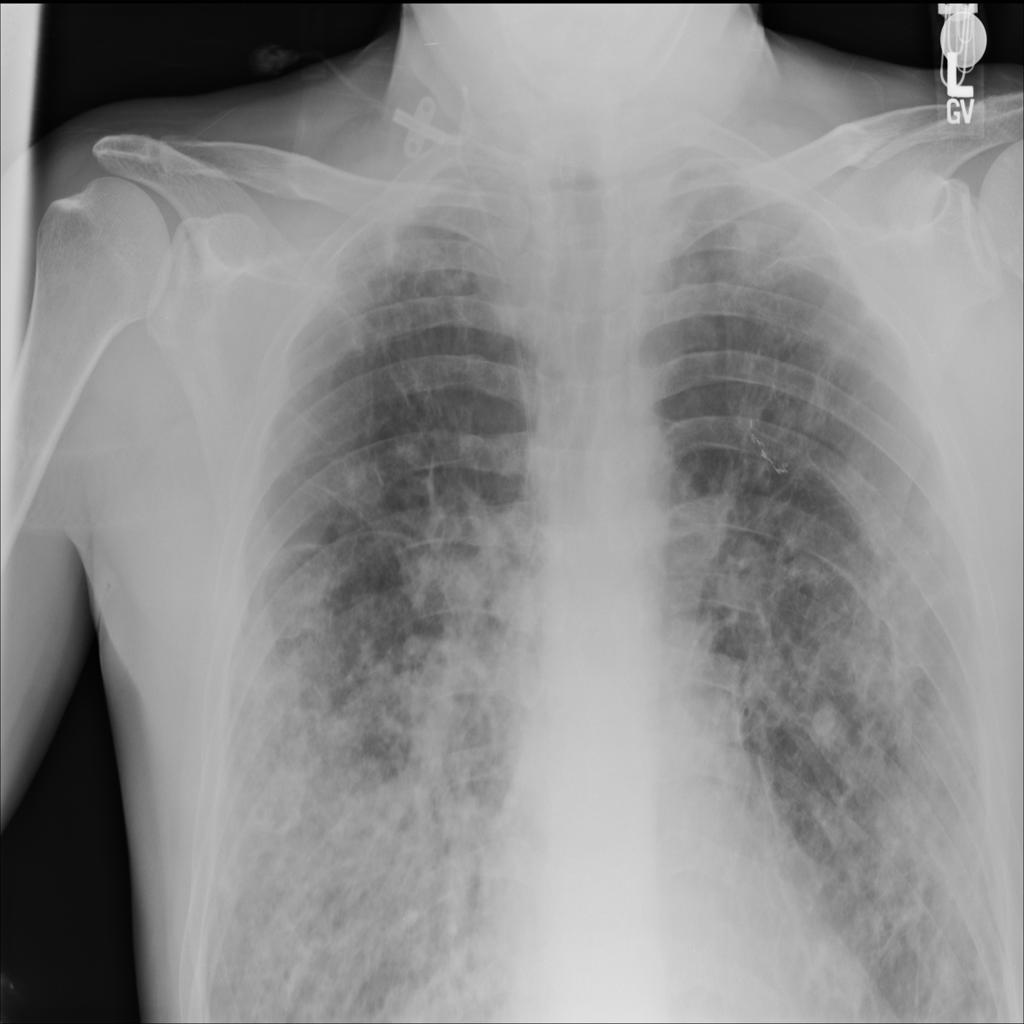nodule: (712, 196, 819, 305), (323, 443, 395, 524), (800, 685, 854, 770)
